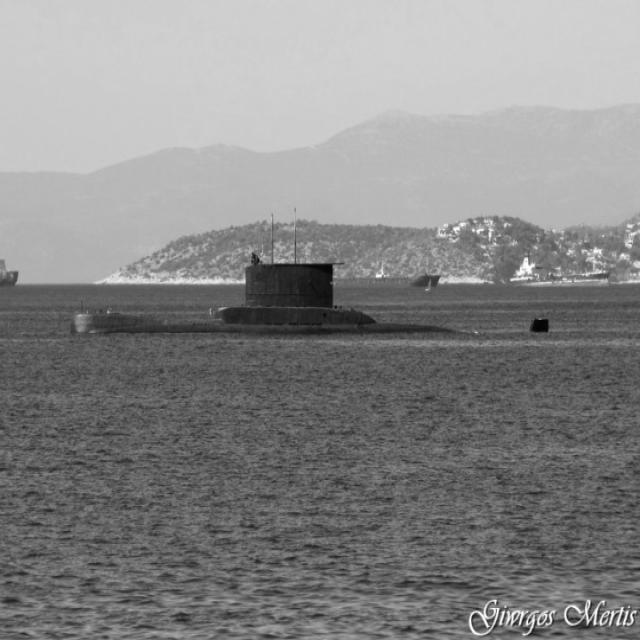submarine: (70, 209, 557, 338)
